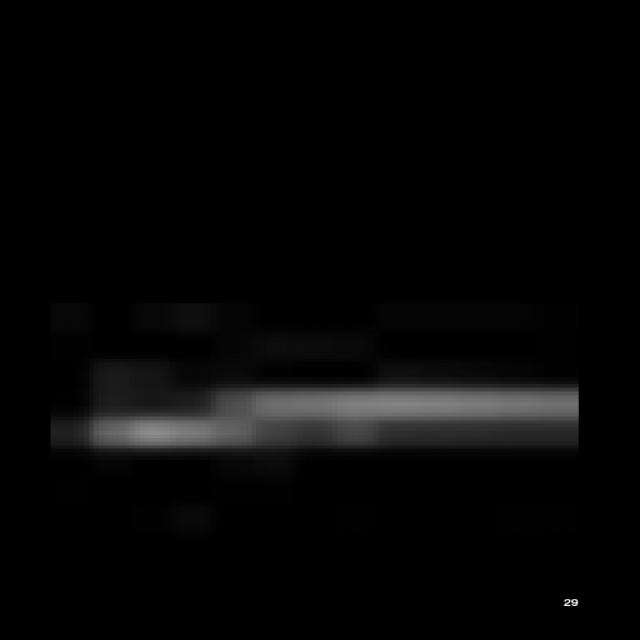1 -one-: (78, 371, 598, 472)
